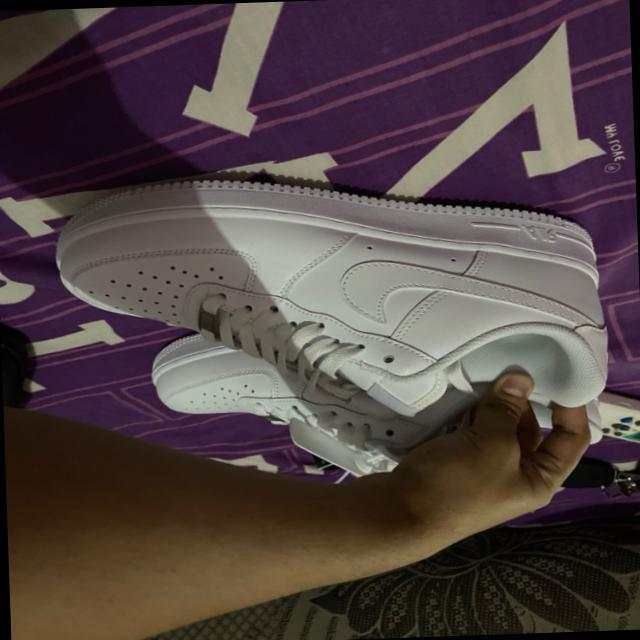nike original air force: (44, 160, 614, 430), (148, 326, 552, 498)
